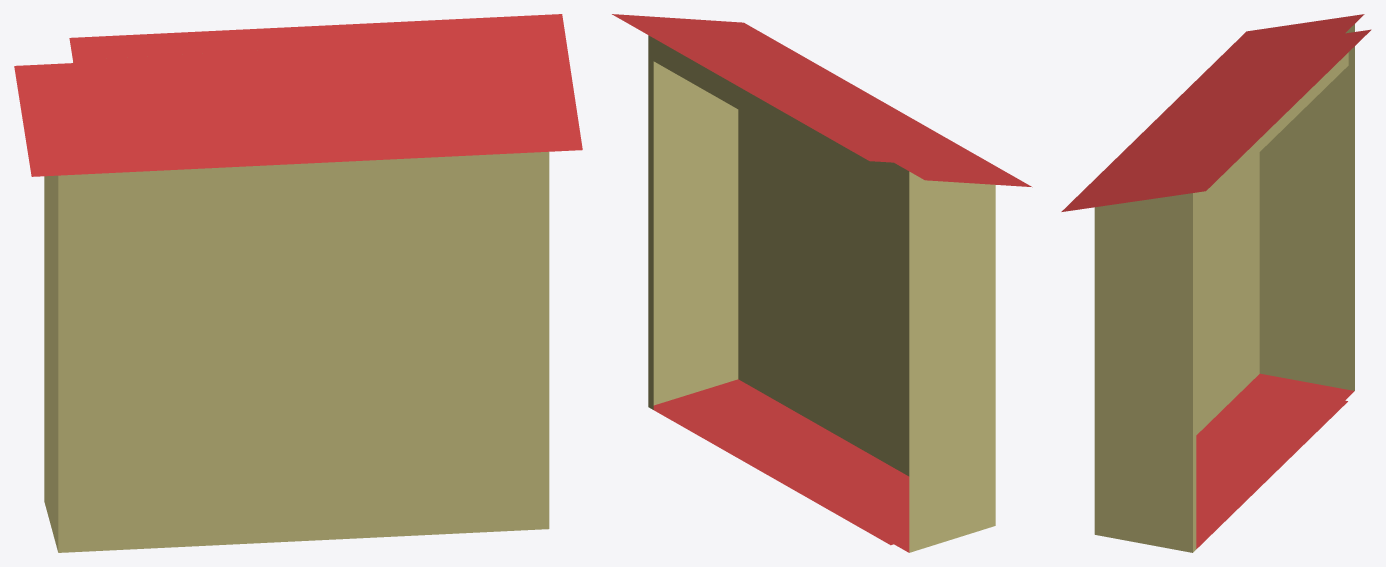
3 views of the same model, side by side, from view 1: azimuth 30°, elevation 25°; view 2: azimuth 150°, elevation 25°; view 3: azimuth 270°, elevation 25° (orthographic). The views are drawn at different scales.
Size of the model in its own units: 9.64 by 6.1 by 8.14.
